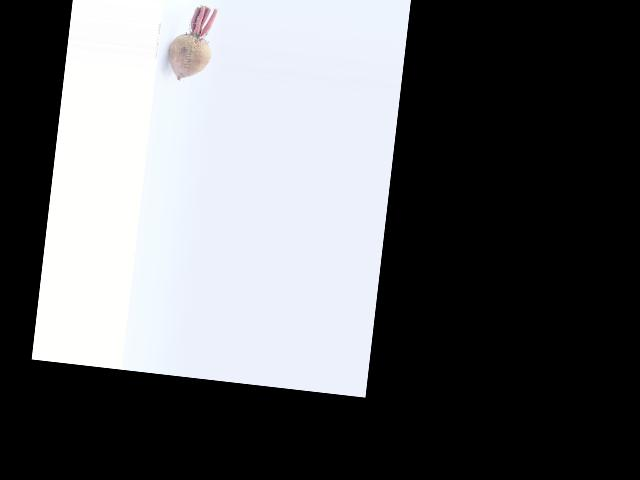beet: (166, 3, 216, 82)
